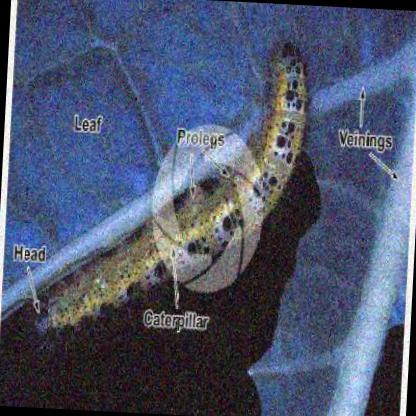pieris: (41, 36, 309, 327)
